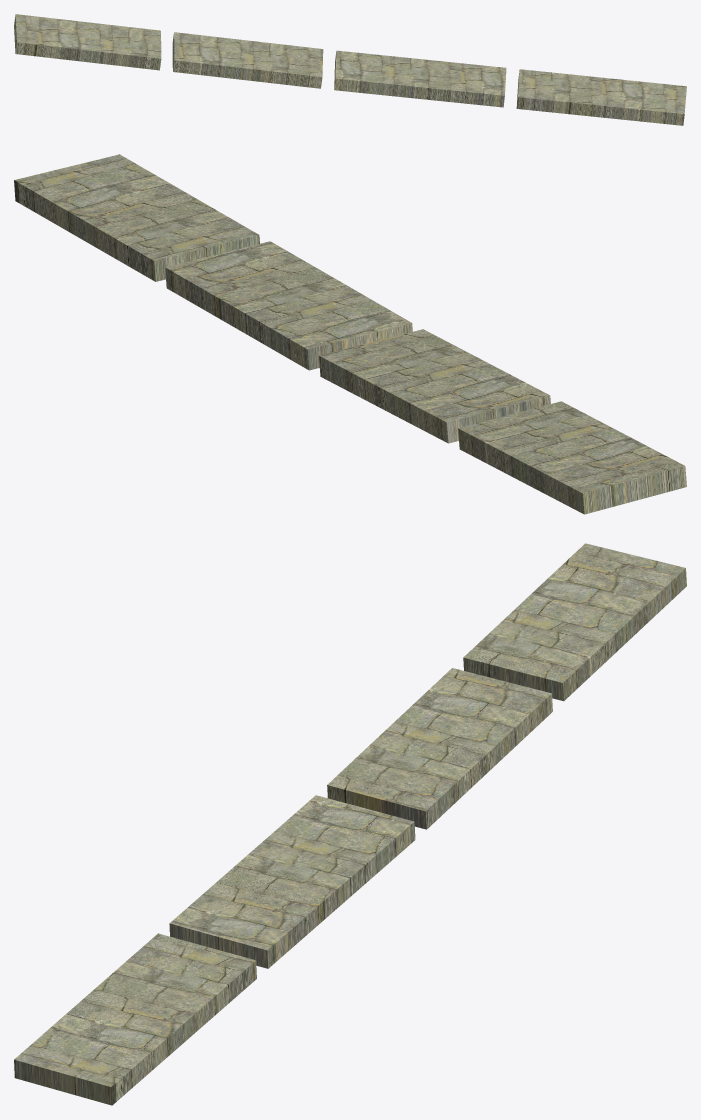
File: SM_Chateaux_01_wIREMESH_00.001.fbx
3 renders of one model, top to bottom at view 1: azimuth 30°, elevation 25°; view 2: azimuth 150°, elevation 25°; view 3: azimuth 270°, elevation 25°, orthographic. The views are drawn at different scales.
Parts seen in each view (by area): view 1: SM_Chateaux_01_wIREMESH_00.001; view 2: SM_Chateaux_01_wIREMESH_00.001; view 3: SM_Chateaux_01_wIREMESH_00.001.
Boxes of the visible parts, box(x1,y1,x2,y2) form: SM_Chateaux_01_wIREMESH_00.001: box(14, 14, 686, 125); SM_Chateaux_01_wIREMESH_00.001: box(14, 154, 686, 514); SM_Chateaux_01_wIREMESH_00.001: box(14, 543, 686, 1105).
Size of the model in its own units: 1596 by 231 by 1055.
